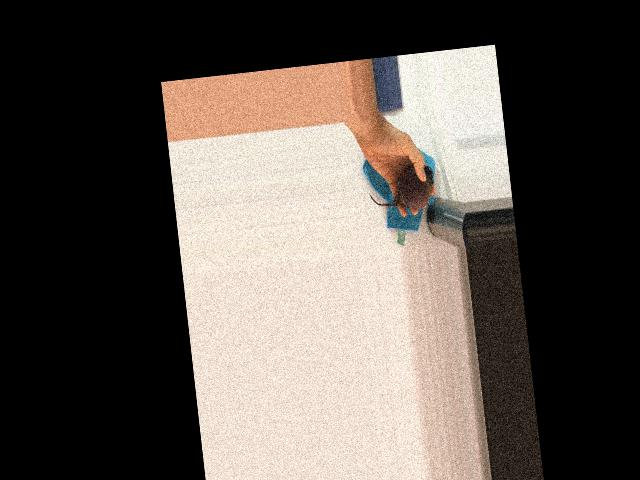beet: (366, 161, 436, 214)
